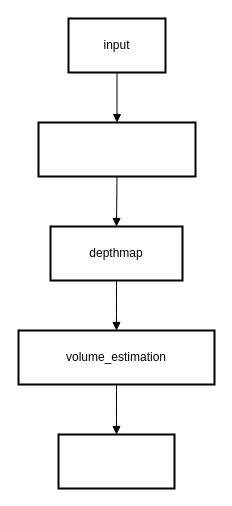
This 232x506 diagram has some shape labels left out. Here are the shapes that lost their labels. From the top down, the centre of each, then its label:
At (116,149): "segmentation".
At (116,461): "calories".
